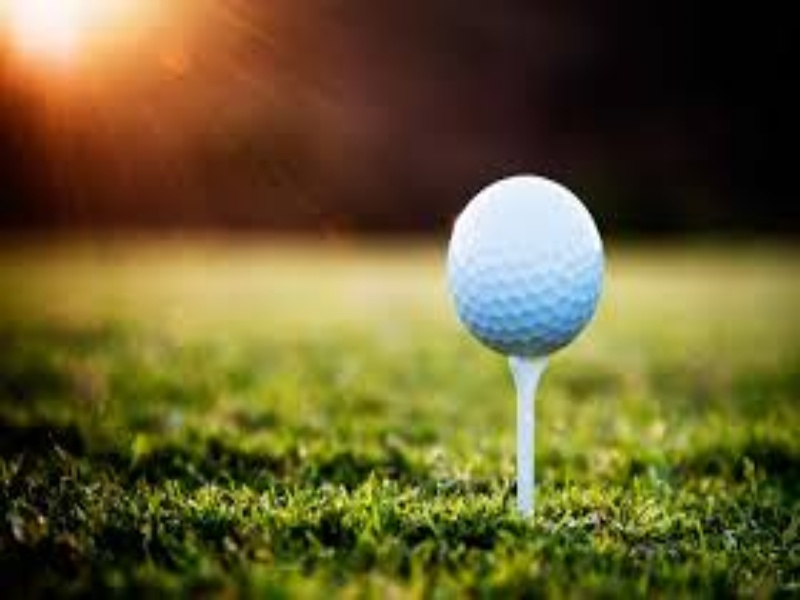golf_ball: (446, 172, 603, 360)
